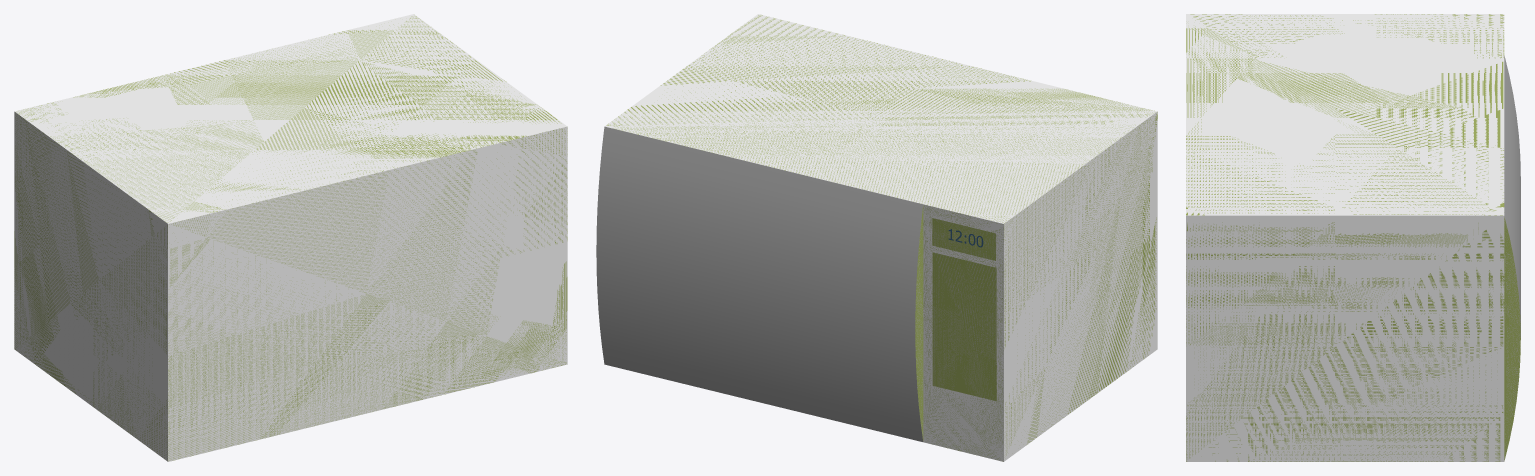
3 renders of one model, left to right at view 1: azimuth 30°, elevation 25°; view 2: azimuth 150°, elevation 25°; view 3: azimuth 270°, elevation 25°, orthographic. The views are drawn at different scales.
Parts seen in each view (by area): view 1: mesh7_mesh7-geometry; view 2: mesh7_mesh7-geometry; view 3: mesh7_mesh7-geometry.
Part boxes in pixels (left/top/right/bottom): mesh7_mesh7-geometry: left=14, top=14, right=567, bottom=461; mesh7_mesh7-geometry: left=596, top=14, right=1157, bottom=461; mesh7_mesh7-geometry: left=1186, top=14, right=1520, bottom=461.
Bounding box in the file's own units: 0.742 × 0.4225 × 0.5204.
